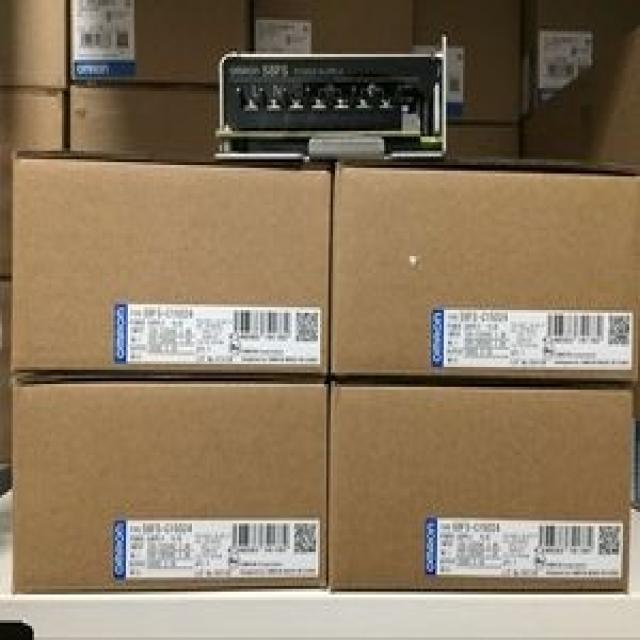box: (12, 152, 328, 374), (12, 379, 328, 594), (330, 165, 638, 381), (327, 388, 632, 594), (524, 26, 638, 168), (71, 3, 253, 83), (0, 85, 70, 282), (414, 8, 521, 122), (531, 0, 638, 104), (70, 83, 220, 157), (254, 1, 416, 52), (0, 1, 70, 88), (445, 120, 522, 167)
